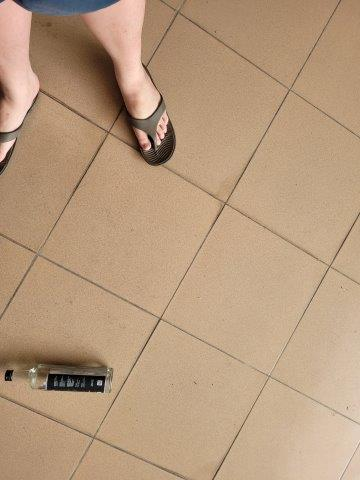botolkaca: (4, 363, 112, 395)
